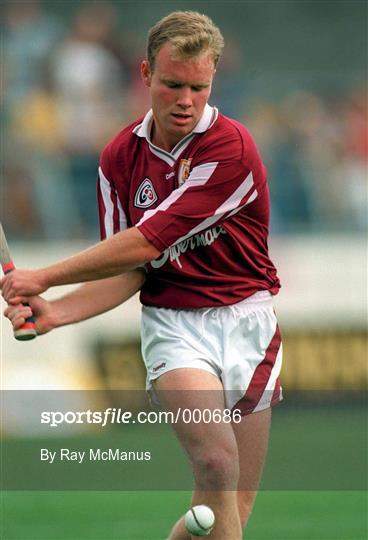ball: (101, 1, 283, 502)
player: (184, 504, 216, 535)
